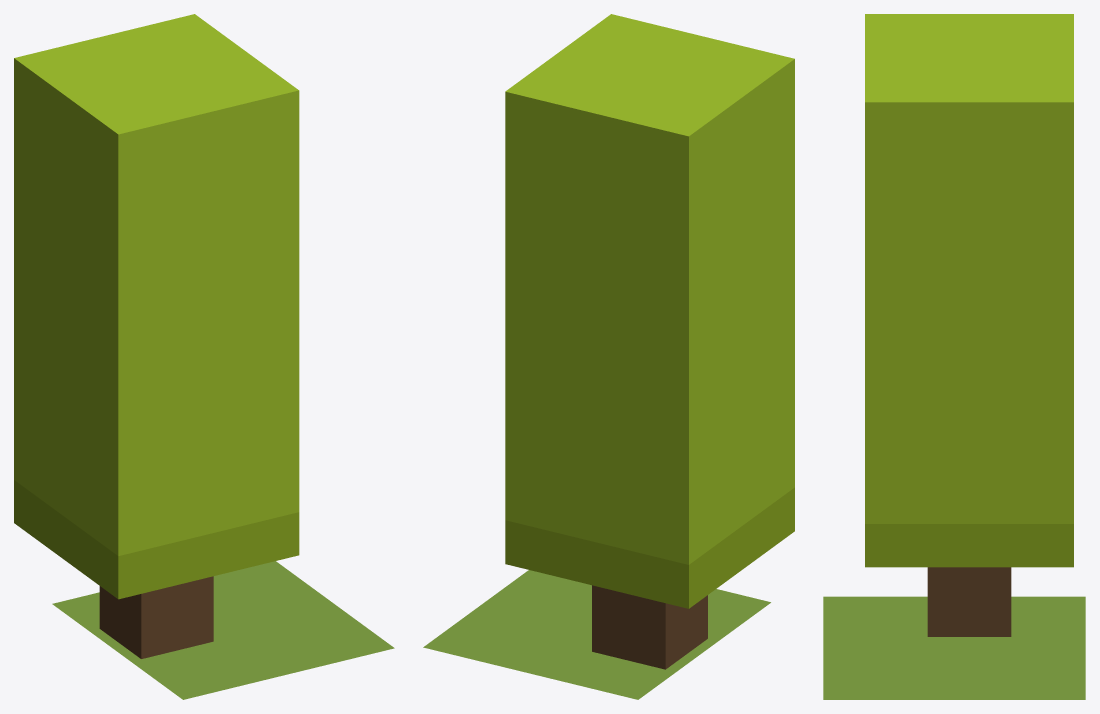
The model's file is tree_tall.obj.
3 renders of one model, left to right at view 1: azimuth 30°, elevation 25°; view 2: azimuth 150°, elevation 25°; view 3: azimuth 270°, elevation 25°, orthographic.
Bounding box in the file's own units: 0.99 × 2.1 × 0.88.
